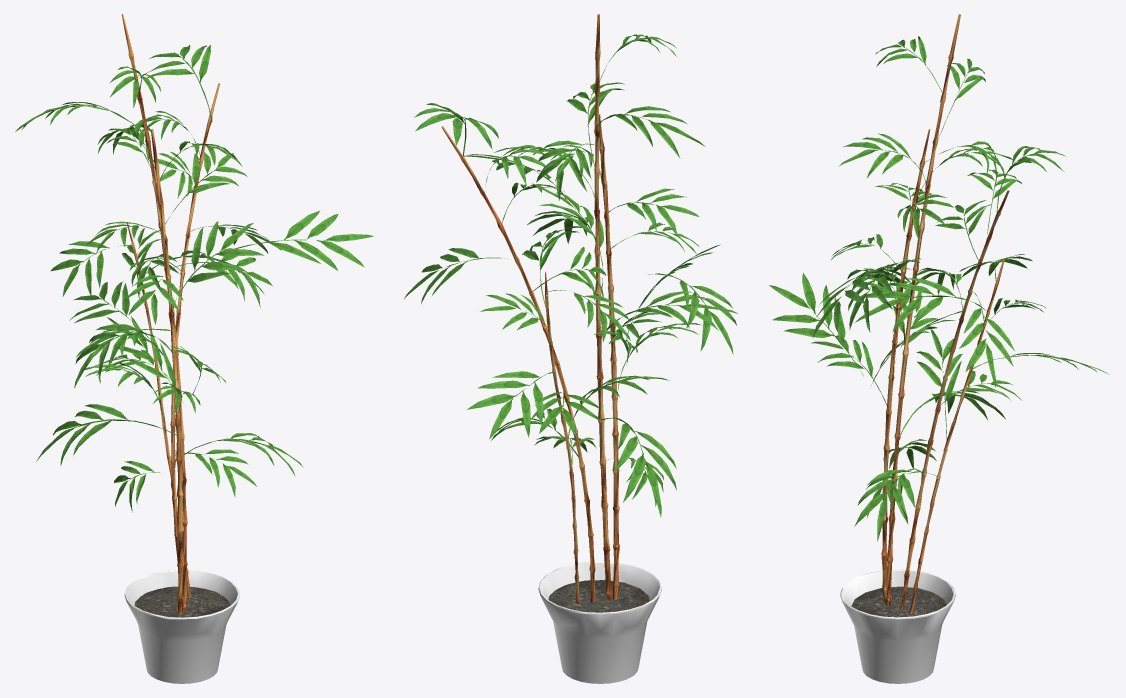
Rendered from Plant 3.FBX.
3 renders of one model, left to right at view 1: azimuth 30°, elevation 25°; view 2: azimuth 150°, elevation 25°; view 3: azimuth 270°, elevation 25°, orthographic. The views are drawn at different scales.
Visible parts, largest first — view 1: plant 3; view 2: plant 3; view 3: plant 3.
Boxes of the visible parts, x1,y1,x2,y2 form: plant 3: [15, 14, 373, 683]; plant 3: [404, 14, 738, 683]; plant 3: [768, 14, 1109, 683].
Size of the model in its own units: 146 by 147 by 302.
1 material, 1 textured.
